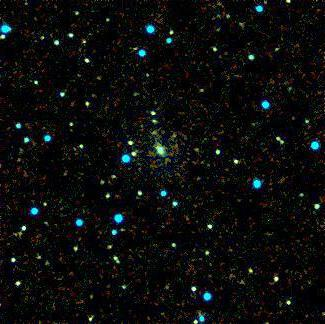star: (182, 138, 212, 168)
